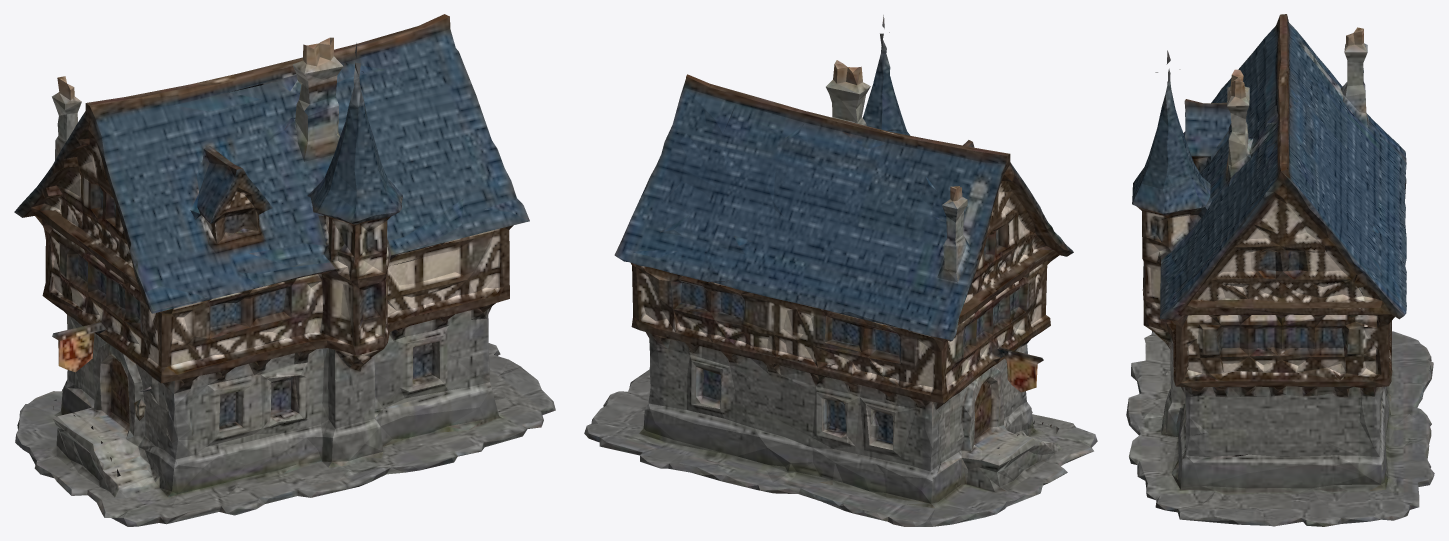
File: house_manor_lod2.glb
The picture shows the model from 3 angles, left to right: view 1: azimuth 30°, elevation 25°; view 2: azimuth 150°, elevation 25°; view 3: azimuth 270°, elevation 25°; orthographic projection. The views are drawn at different scales.
Parts seen in each view (by area): view 1: lod; view 2: lod; view 3: lod.
Boxes of the visible parts, left/top/right/bottom form: lod: left=14, top=14, right=555, bottom=526; lod: left=584, top=15, right=1097, bottom=526; lod: left=1126, top=14, right=1434, bottom=526.
Bounding box in the file's own units: 1.89 × 1.63 × 1.2.
1 material, 1 textured.
